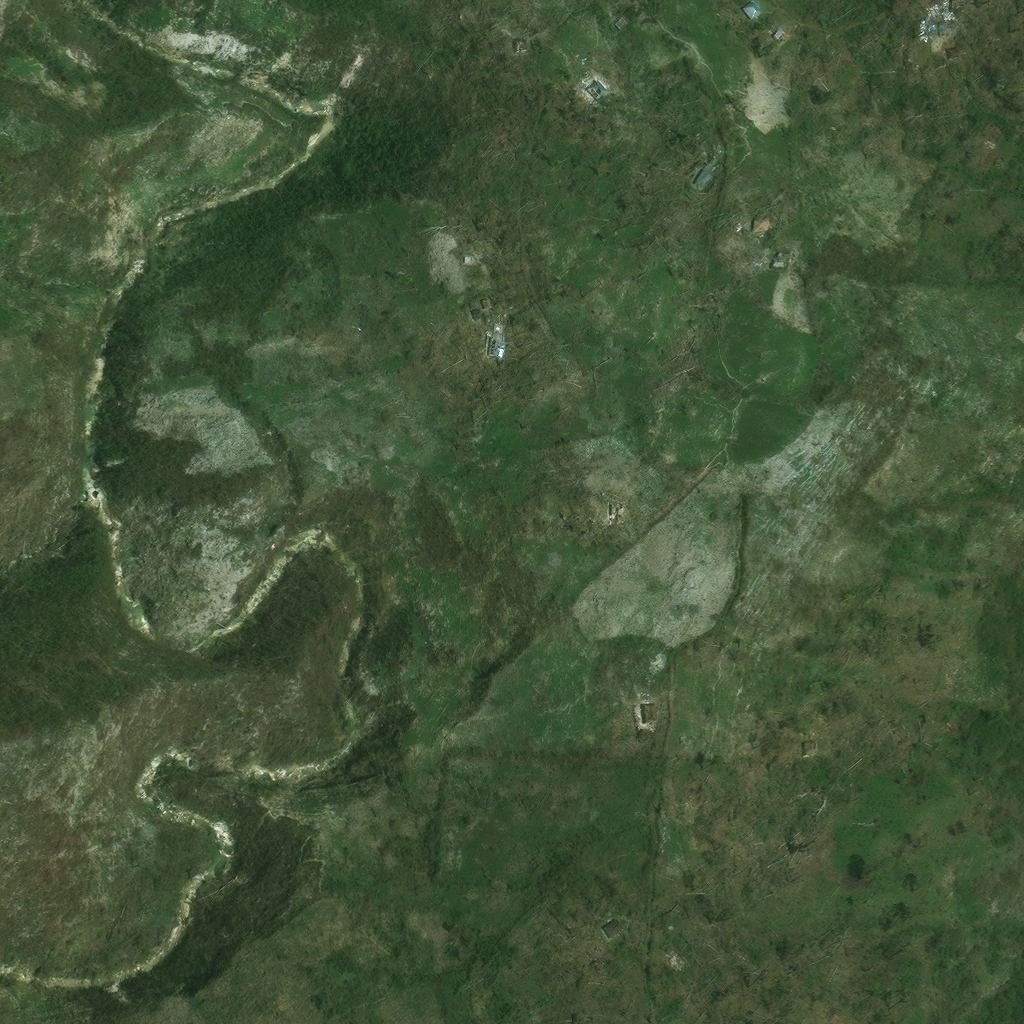destroyed: (337, 100, 363, 123), (669, 951, 688, 967), (580, 95, 596, 112), (185, 831, 202, 846), (623, 494, 638, 511)
major_damage: (493, 334, 512, 352)
minor_damage: (590, 74, 616, 98), (948, 12, 969, 29), (697, 166, 716, 183), (636, 707, 650, 725), (961, 38, 974, 51), (754, 0, 767, 11), (523, 33, 534, 45), (625, 11, 636, 22), (478, 305, 486, 314)
no_damage: (607, 918, 624, 934), (805, 740, 819, 756)
unclassified: (511, 925, 531, 943), (993, 142, 1009, 160), (961, 0, 974, 6)
